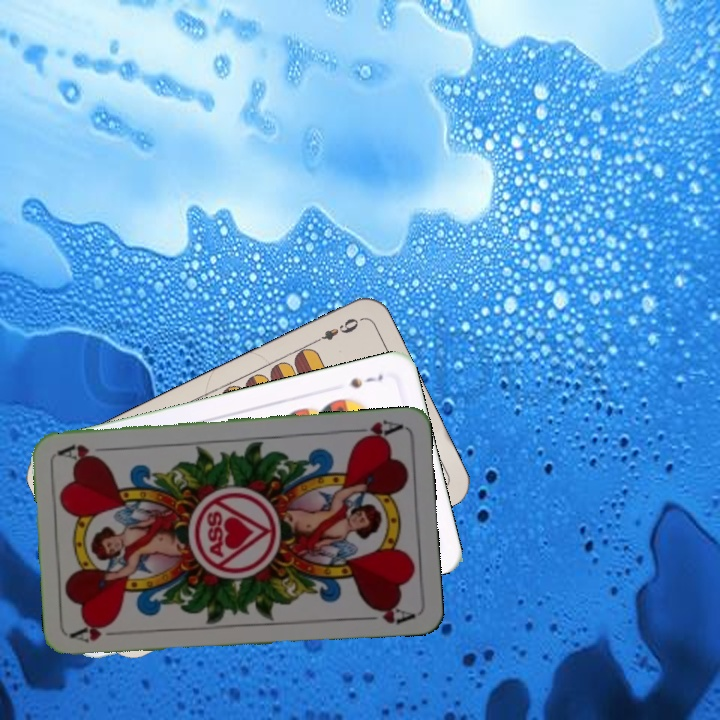E9: (309, 314, 364, 347)
HA: (345, 415, 404, 444), (68, 620, 127, 646)
S7: (346, 370, 386, 391)
